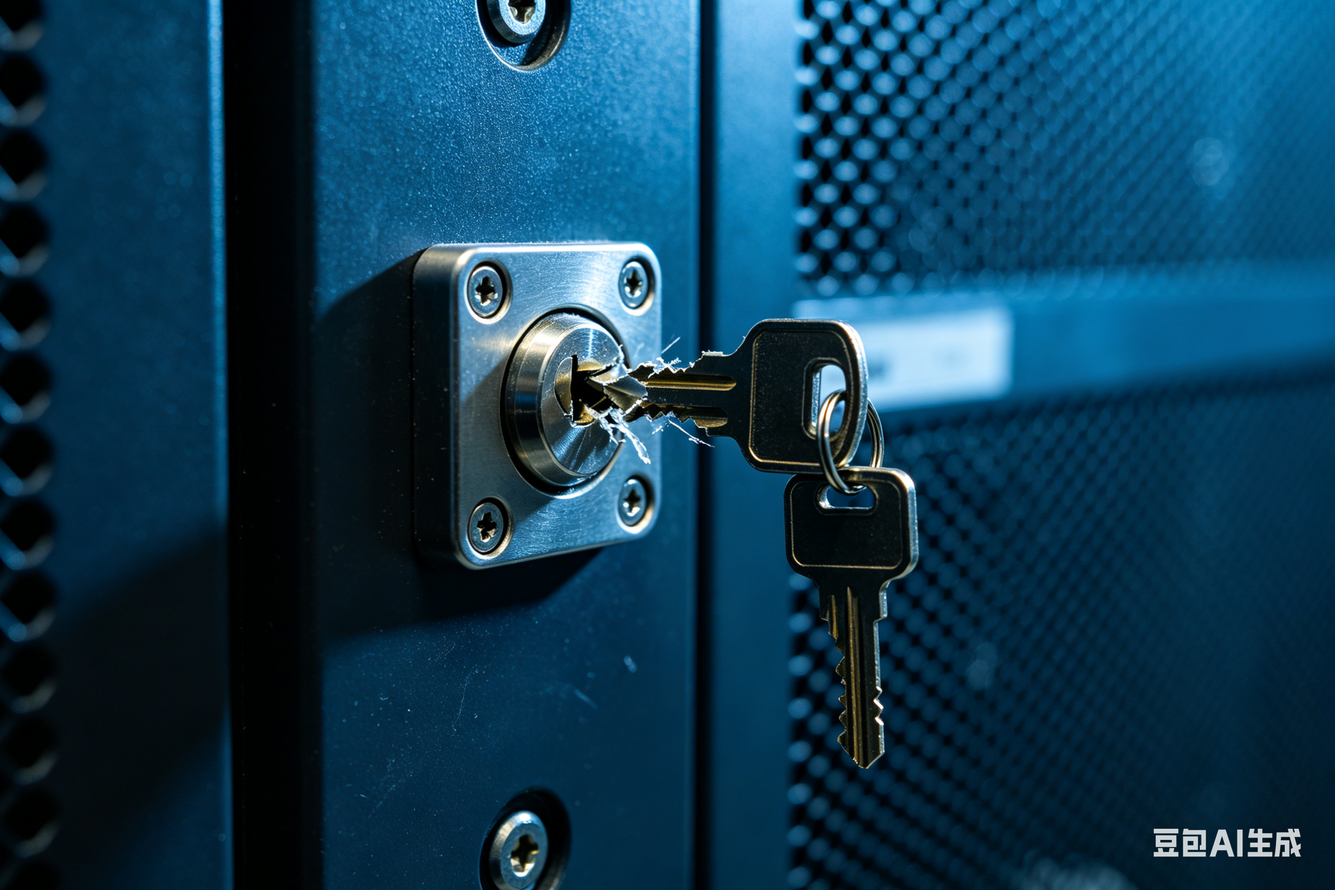BadLock: (534, 306, 705, 491)
